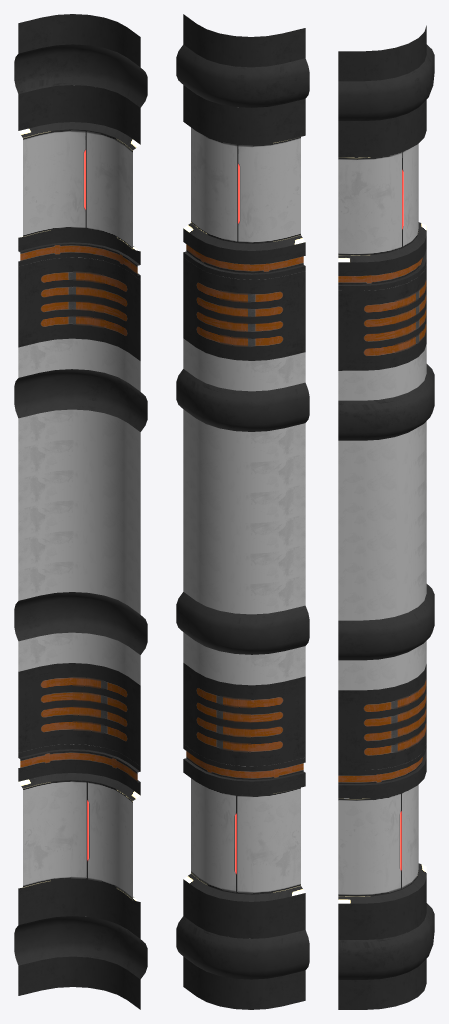
The model's file is LBendWall.fbx.
The picture shows the model from 3 angles, left to right: view 1: azimuth 30°, elevation 25°; view 2: azimuth 210°, elevation 25°; view 3: azimuth 270°, elevation 25°; orthographic projection.
Parts seen in each view (by area): view 1: LBendWall; view 2: LBendWall; view 3: LBendWall.
Boxes of the visible parts, box(x1,y1,x2,y2) form: LBendWall: box(14, 14, 147, 1009); LBendWall: box(176, 14, 309, 1009); LBendWall: box(338, 25, 434, 1009).
Bounding box in the file's own units: 136 × 1500 × 136.
